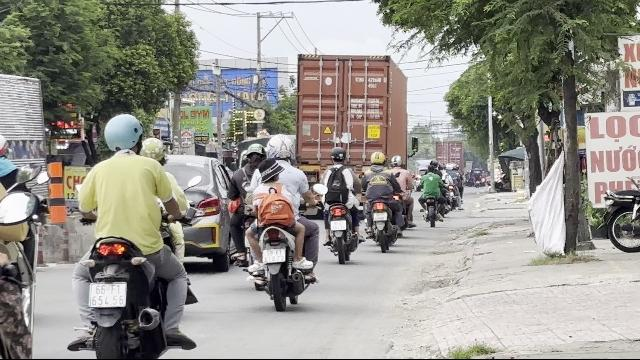helmet: (102, 112, 144, 156), (264, 133, 296, 163), (244, 142, 266, 168), (330, 146, 346, 164)
licenseplate: (90, 283, 126, 307), (262, 249, 286, 263), (330, 221, 346, 231)
motorcyclist: (68, 111, 200, 357), (242, 127, 320, 309), (320, 146, 362, 262)
nohelmet: (253, 160, 284, 185)
